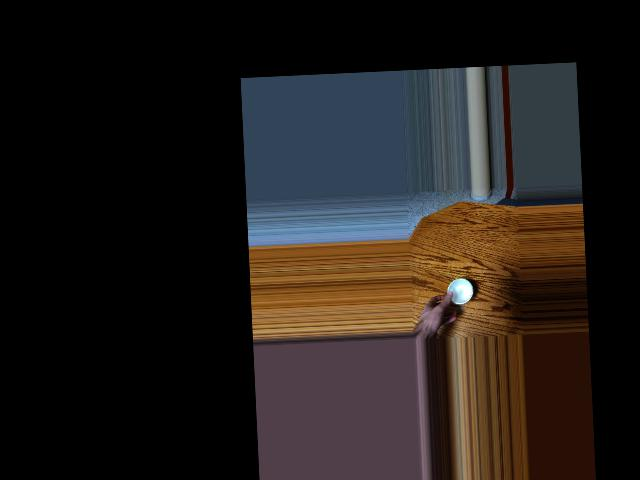cotage: (446, 275, 473, 304)
